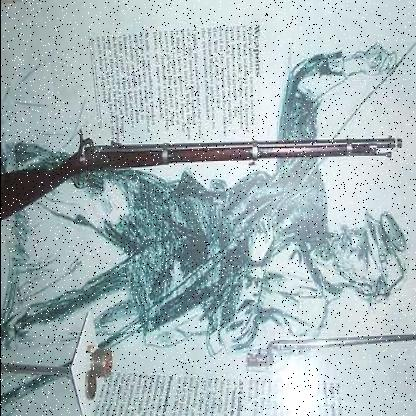rifle: (1, 118, 416, 177)
